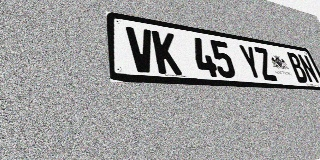4: (190, 36, 219, 77)
5: (209, 40, 237, 78)
B: (285, 52, 310, 83)
K: (151, 30, 182, 75)
N: (297, 54, 320, 84)
V: (126, 26, 157, 73)
Y: (237, 44, 264, 80)
Z: (252, 46, 278, 81)
